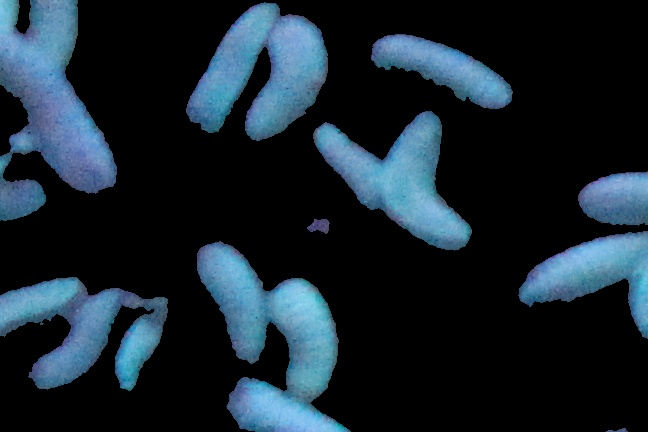larvae: (1, 35, 125, 193), (374, 28, 526, 132), (378, 114, 475, 254), (188, 241, 282, 378), (174, 1, 262, 136), (12, 293, 123, 389), (505, 235, 648, 309), (307, 117, 399, 230), (253, 10, 327, 135), (271, 272, 341, 394), (217, 371, 347, 432), (113, 290, 174, 391), (568, 165, 648, 229), (22, 1, 92, 68), (1, 272, 87, 324)
